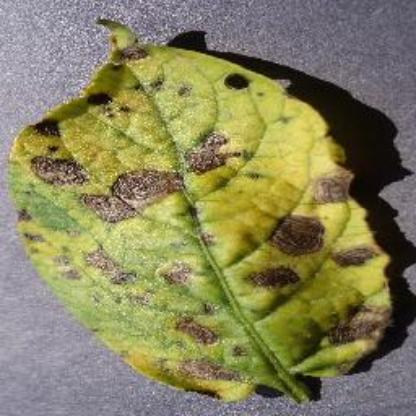Early-Blight: (9, 12, 408, 402)
